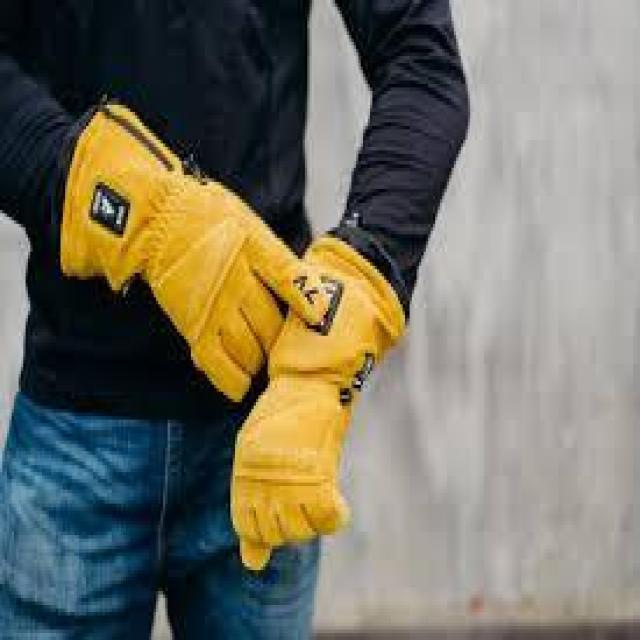Gloves: (52, 79, 331, 415), (223, 203, 410, 593)
Person: (0, 0, 471, 636)
